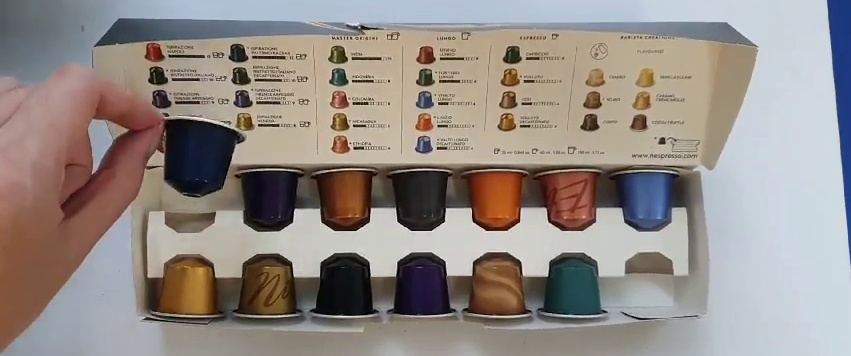capsule_1: (162, 114, 246, 198)
